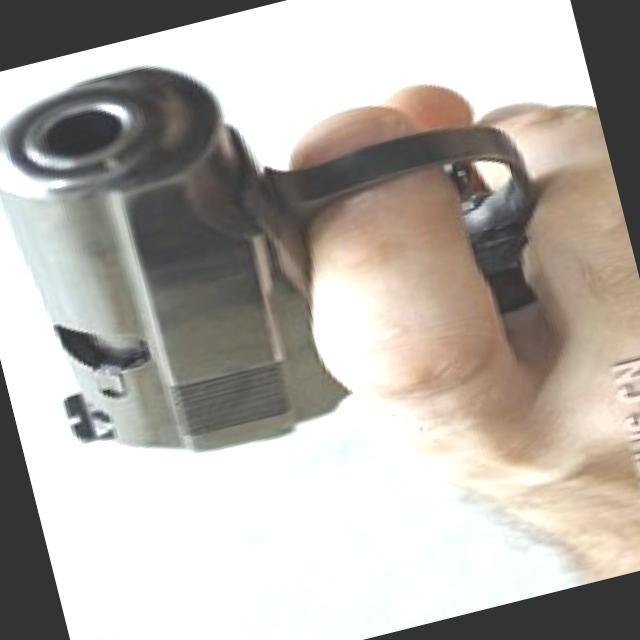handgun: (0, 0, 569, 499)
